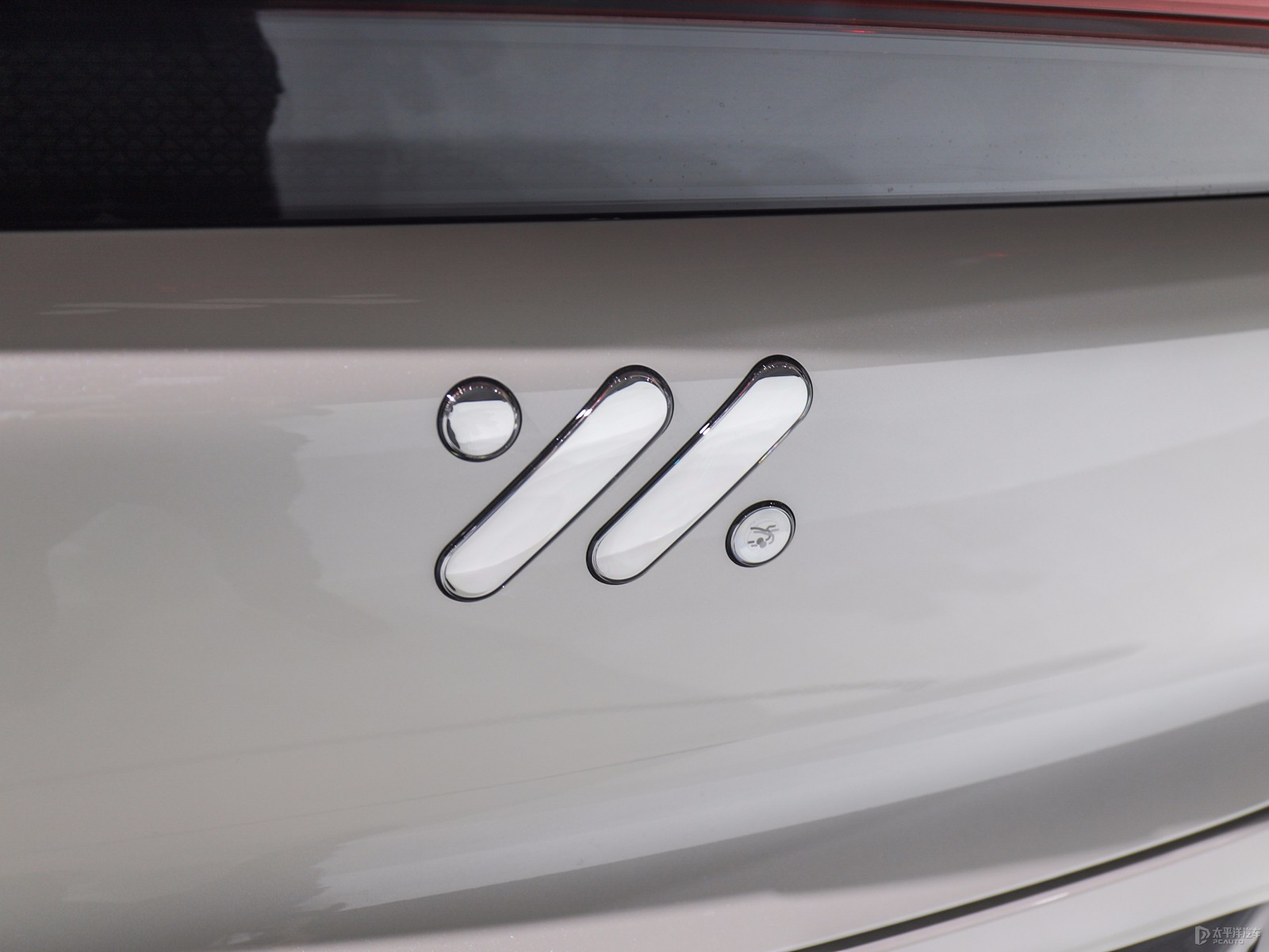IM: (441, 356, 811, 597)
